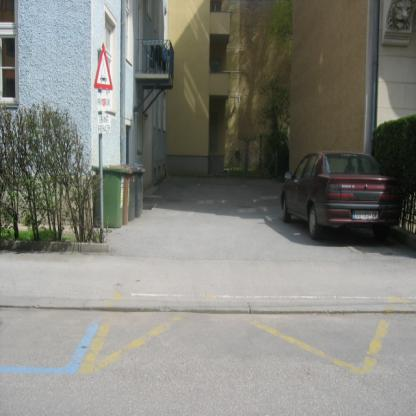car: (280, 152, 405, 243)
